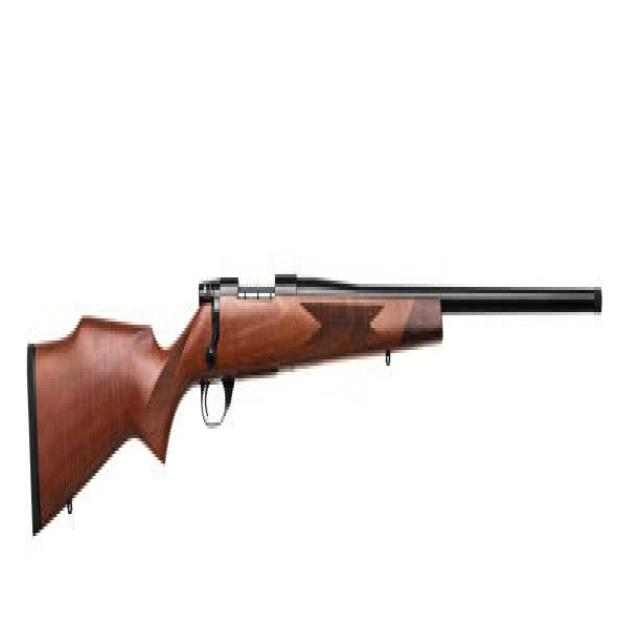rifle: (23, 276, 607, 554)
